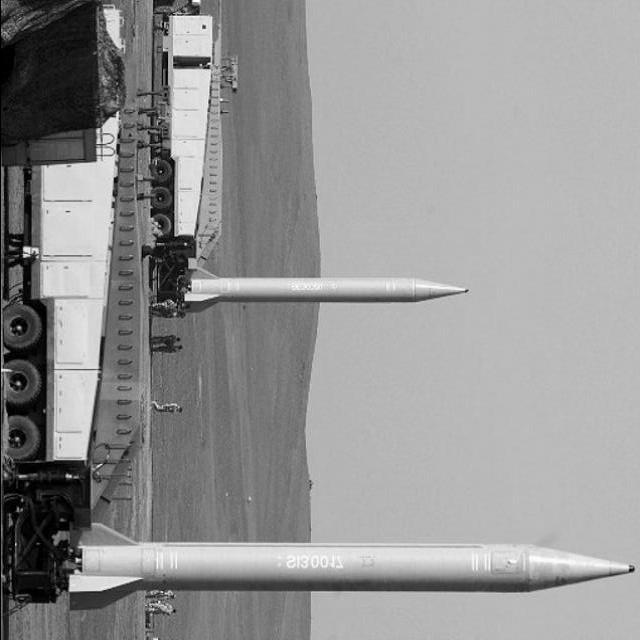Missile: (70, 524, 638, 616), (184, 253, 467, 312)
